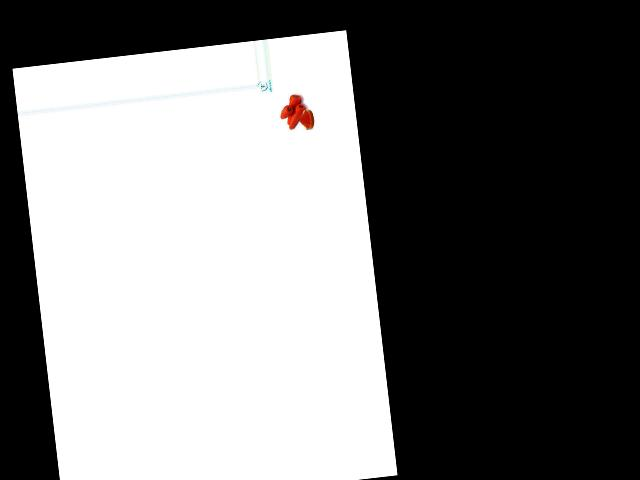carrot: (285, 103, 306, 131)
